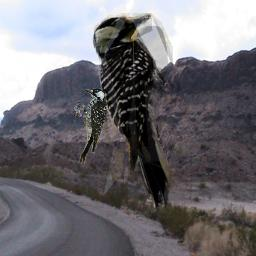Woodpecker: (91, 13, 190, 216), (74, 88, 107, 164)
